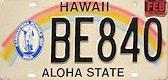placa de veiculo: (3, 0, 166, 77)
